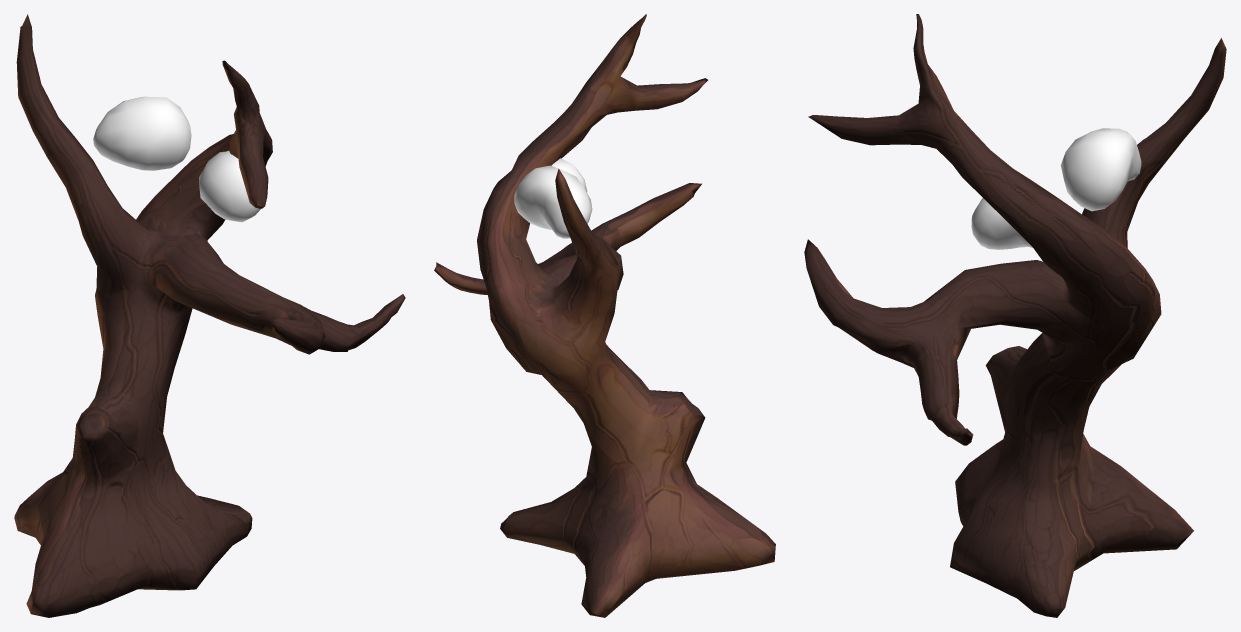
File: tree4 2.fbx
The picture shows the model from 3 angles, left to right: view 1: azimuth 30°, elevation 25°; view 2: azimuth 150°, elevation 25°; view 3: azimuth 270°, elevation 25°; orthographic projection. The views are drawn at different scales.
Visible parts, largest first — view 1: polySurface51; view 2: polySurface51; view 3: polySurface51.
Part boxes in pixels (x1,y1,x2,y2): polySurface51: [14, 14, 405, 617]; polySurface51: [434, 14, 775, 617]; polySurface51: [804, 14, 1226, 617].
Size of the model in its own units: 1130 by 1595 by 1071.
